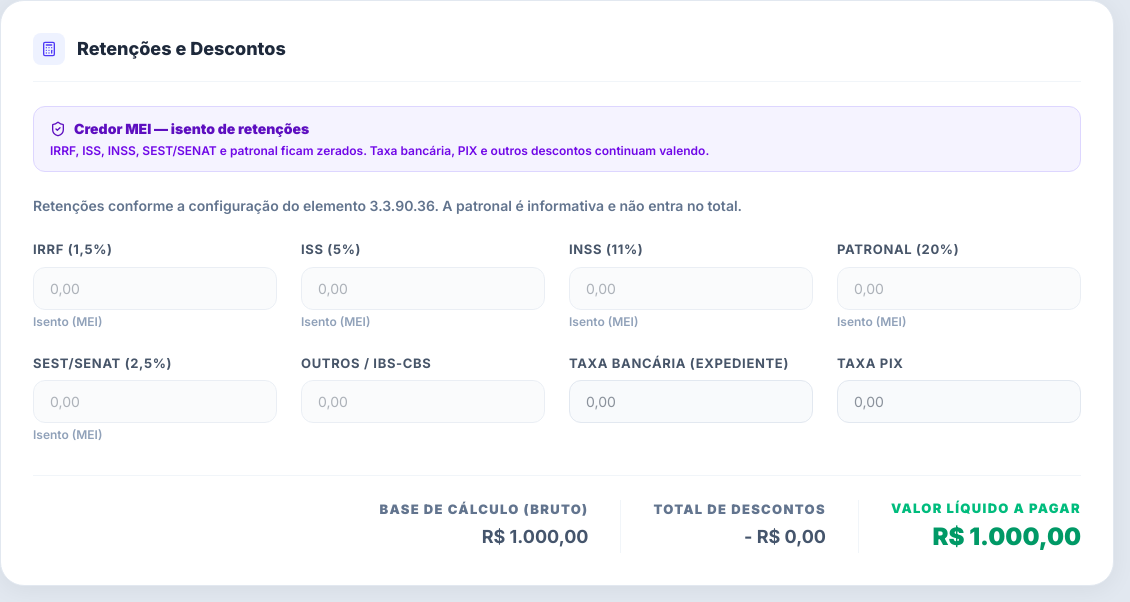
OpTaxesSection — credor MEI (T26) › banner, tributários zerados e travados, taxa bancária continua valendo
Check: the text "Credor MEI — isento de retenções" is shown, box [50,120,309,137]
Check: the field labelled "IRRF (1,5%)" is disabled, box [33,267,277,310]
Type "850" into the field labelled "Taxa bancária (expediente)" at (691, 402), box [569,380,813,423]
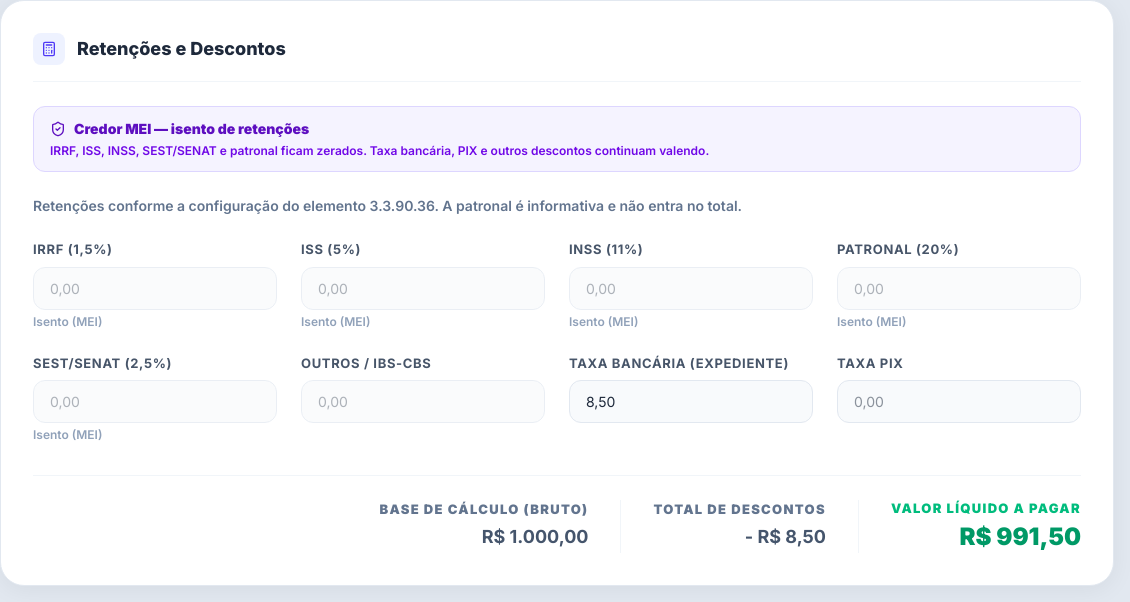
Check: the text with test id "resumo-liquido" reads "R$ 991,50", box [959,522,1081,552]
